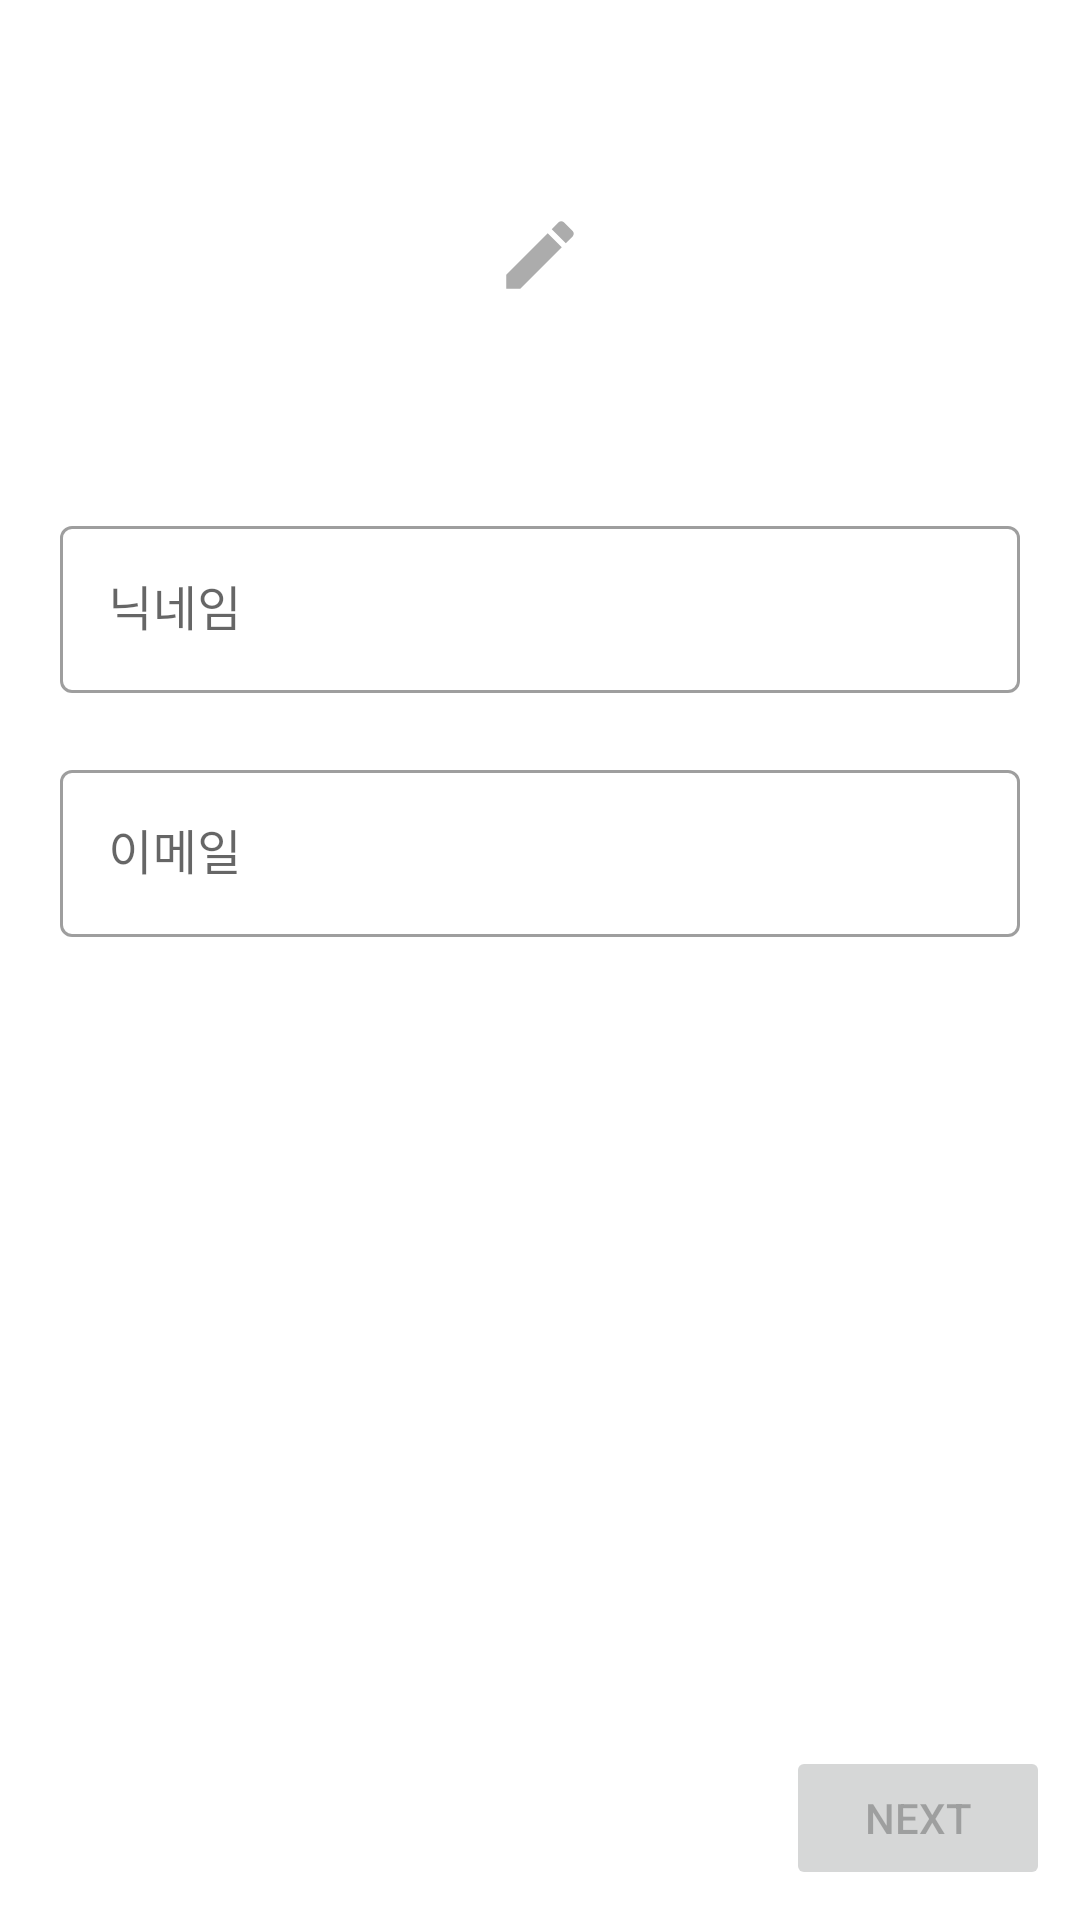

Locate icon controls on the screen. Image size 1080 x 1920, boxes as Rect(x1, y1, x2, y2).
create: Rect(506, 221, 574, 289)
